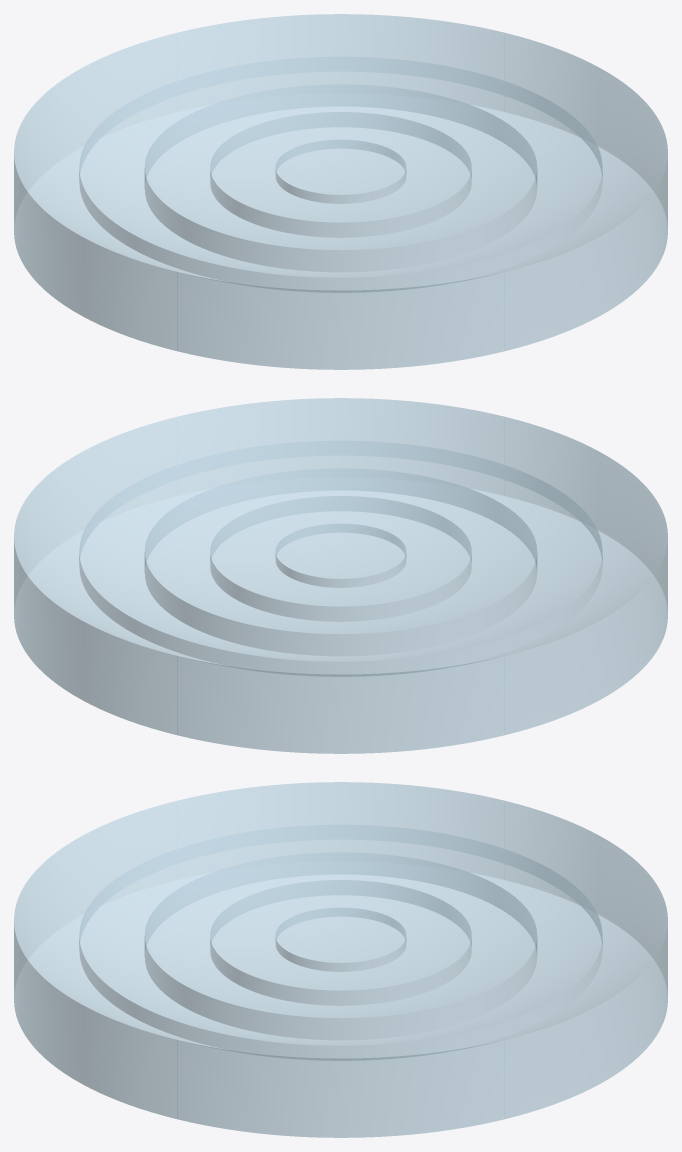
Rendered from Fresnel_Lens_DC.gltf.
3 views of the same model, one above another, from view 1: azimuth 30°, elevation 25°; view 2: azimuth 150°, elevation 25°; view 3: azimuth 270°, elevation 25° (orthographic).
Visible parts, largest first — view 1: mesh10_meshnode_10, mesh9_meshnode_9, mesh8_meshnode_8, mesh6_meshnode_6, mesh4_meshnode_4, mesh5_meshnode_5, mesh2_meshnode_2, mesh7_meshnode_7, mesh3_meshnode_3, mesh0_meshnode_0, mesh1_meshnode_1; view 2: mesh10_meshnode_10, mesh9_meshnode_9, mesh8_meshnode_8, mesh6_meshnode_6, mesh4_meshnode_4, mesh5_meshnode_5, mesh2_meshnode_2, mesh7_meshnode_7, mesh3_meshnode_3, mesh0_meshnode_0, mesh1_meshnode_1; view 3: mesh10_meshnode_10, mesh9_meshnode_9, mesh8_meshnode_8, mesh6_meshnode_6, mesh4_meshnode_4, mesh5_meshnode_5, mesh2_meshnode_2, mesh7_meshnode_7, mesh3_meshnode_3, mesh0_meshnode_0, mesh1_meshnode_1.
Boxes of the visible parts, x1=… form: mesh10_meshnode_10: x1=14, y1=105, x2=667, y2=369; mesh9_meshnode_9: x1=14, y1=14, x2=667, y2=369; mesh8_meshnode_8: x1=14, y1=14, x2=667, y2=292; mesh6_meshnode_6: x1=79, y1=56, x2=602, y2=277; mesh4_meshnode_4: x1=144, y1=84, x2=537, y2=250; mesh5_meshnode_5: x1=144, y1=84, x2=537, y2=272; mesh2_meshnode_2: x1=210, y1=112, x2=471, y2=222; mesh7_meshnode_7: x1=79, y1=57, x2=602, y2=290; mesh3_meshnode_3: x1=210, y1=112, x2=471, y2=237; mesh0_meshnode_0: x1=275, y1=139, x2=406, y2=194; mesh1_meshnode_1: x1=275, y1=140, x2=406, y2=203; mesh10_meshnode_10: x1=14, y1=489, x2=667, y2=753; mesh9_meshnode_9: x1=14, y1=398, x2=667, y2=753; mesh8_meshnode_8: x1=14, y1=398, x2=667, y2=676; mesh6_meshnode_6: x1=79, y1=440, x2=602, y2=661; mesh4_meshnode_4: x1=144, y1=468, x2=537, y2=634; mesh5_meshnode_5: x1=144, y1=468, x2=537, y2=656; mesh2_meshnode_2: x1=210, y1=496, x2=471, y2=606; mesh7_meshnode_7: x1=79, y1=441, x2=602, y2=674; mesh3_meshnode_3: x1=210, y1=496, x2=471, y2=621; mesh0_meshnode_0: x1=275, y1=523, x2=406, y2=578; mesh1_meshnode_1: x1=275, y1=524, x2=406, y2=587; mesh10_meshnode_10: x1=14, y1=873, x2=667, y2=1137; mesh9_meshnode_9: x1=14, y1=782, x2=667, y2=1137; mesh8_meshnode_8: x1=14, y1=782, x2=667, y2=1060; mesh6_meshnode_6: x1=79, y1=824, x2=602, y2=1045; mesh4_meshnode_4: x1=144, y1=852, x2=537, y2=1018; mesh5_meshnode_5: x1=144, y1=852, x2=537, y2=1040; mesh2_meshnode_2: x1=210, y1=880, x2=471, y2=990; mesh7_meshnode_7: x1=79, y1=825, x2=602, y2=1058; mesh3_meshnode_3: x1=210, y1=880, x2=471, y2=1005; mesh0_meshnode_0: x1=275, y1=907, x2=406, y2=962; mesh1_meshnode_1: x1=275, y1=908, x2=406, y2=971.
Bounding box in the file's own units: 0.0508 × 0.00681 × 0.0508.
